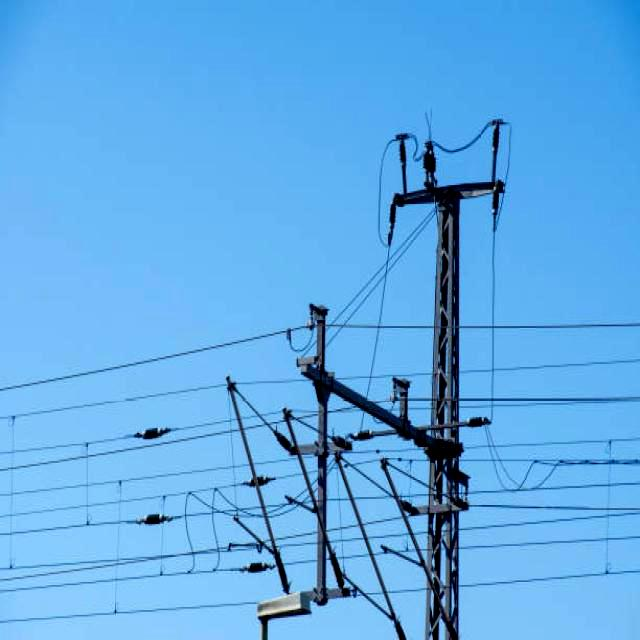Broken Pole: (230, 300, 426, 640)
